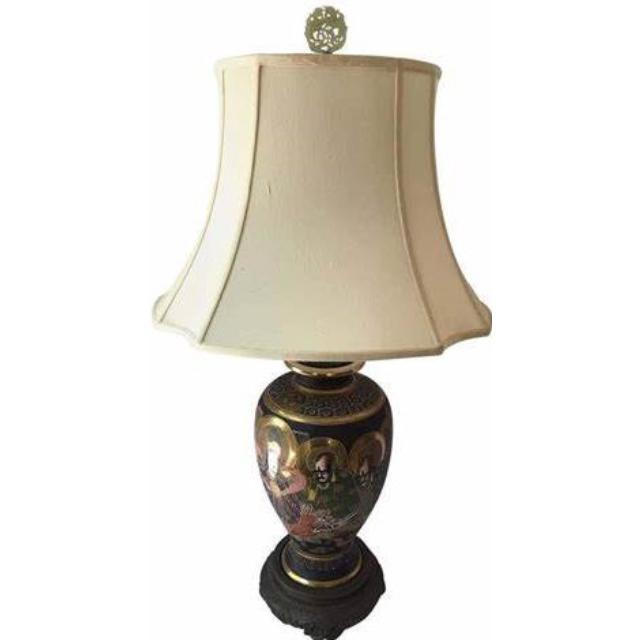lamp: (151, 5, 492, 640)
